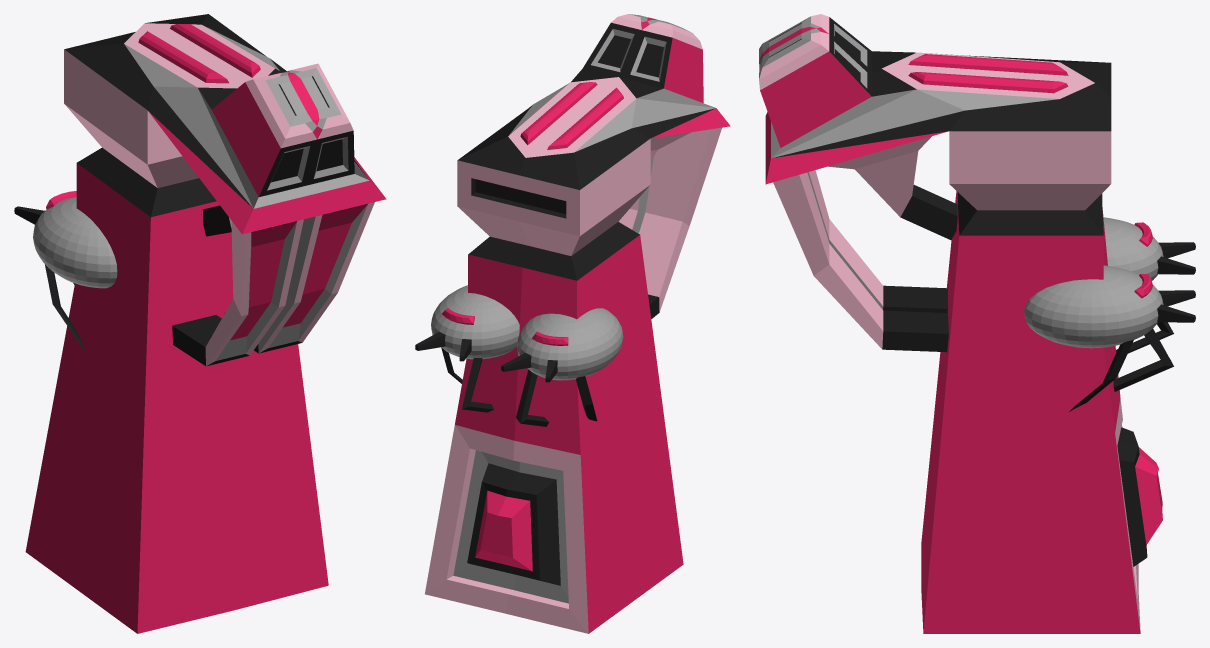
File: BoobyBot-Colored.glb
3 views of the same model, side by side, from view 1: azimuth 30°, elevation 25°; view 2: azimuth 150°, elevation 25°; view 3: azimuth 270°, elevation 25° (orthographic). The views are drawn at different scales.
Parts seen in each view (by area): view 1: Cube; view 2: Cube; view 3: Cube.
Boxes of the visible parts, <box> form: Cube: <box>14,14,386,633</box>; Cube: <box>415,14,730,633</box>; Cube: <box>759,14,1195,633</box>.
Size of the model in its own units: 3.15 by 8.57 by 6.05.
